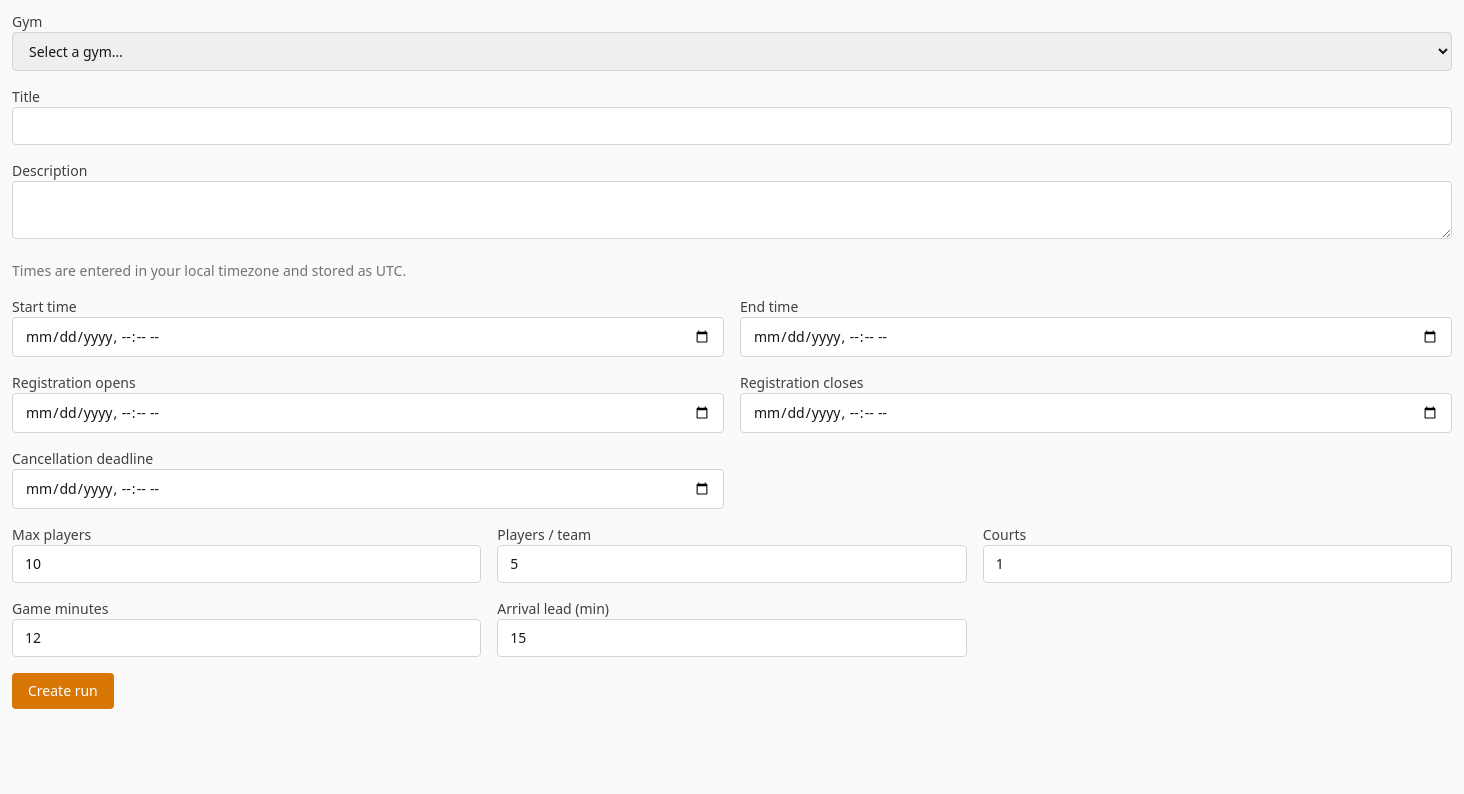
Test: RunForm › blocks submit and shows an error when required fields are empty
This screenshot has width=1464, height=794.
Click the button "Create run".
click(63, 691)  # box left=12, top=673, right=114, bottom=709
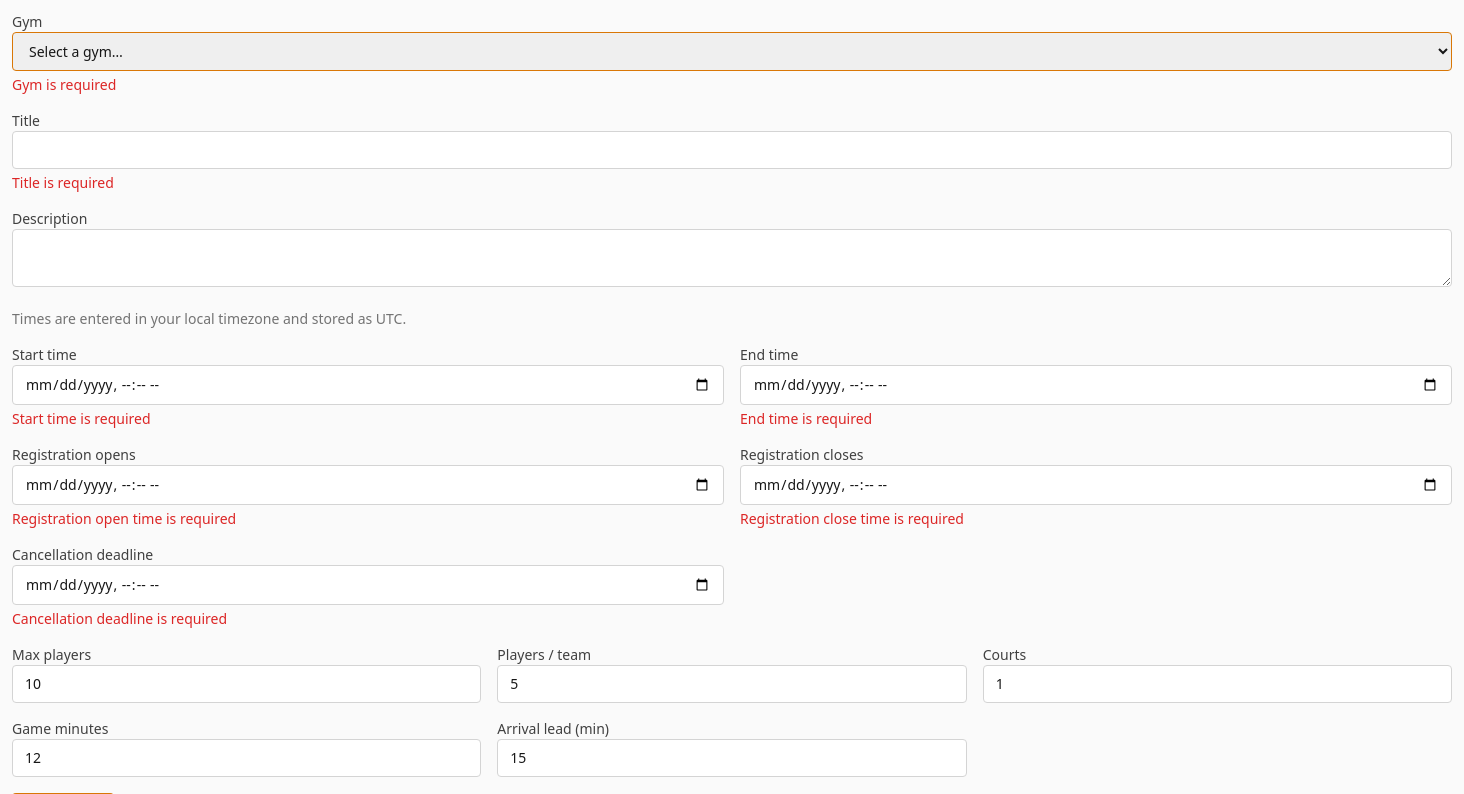
Expected: the text "Gym is required" is shown, left=12, top=75, right=116, bottom=94
